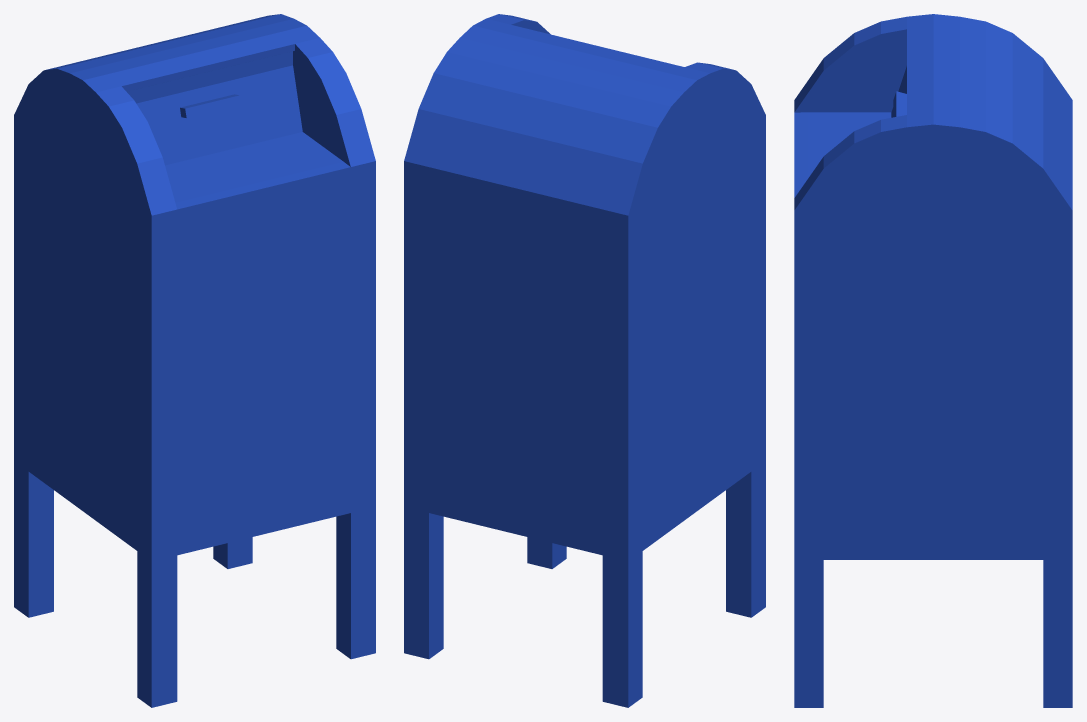
Rendered from Mailbox.FBX.
The picture shows the model from 3 angles, left to right: view 1: azimuth 30°, elevation 25°; view 2: azimuth 150°, elevation 25°; view 3: azimuth 270°, elevation 25°; orthographic projection.
Visible parts, largest first — view 1: Mailbox; view 2: Mailbox; view 3: Mailbox.
Boxes of the visible parts, box(x1,y1,x2,y2) form: Mailbox: box(14, 14, 375, 707); Mailbox: box(404, 14, 765, 707); Mailbox: box(794, 14, 1072, 707).
Size of the model in its own units: 20 by 49.2 by 21.26.
